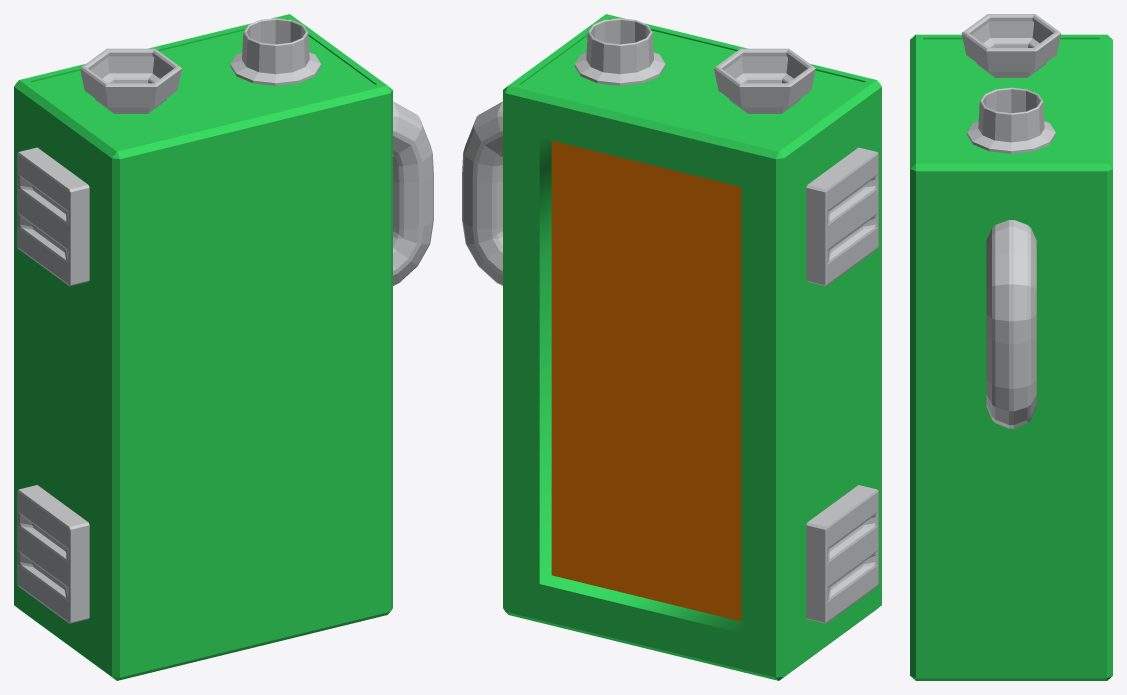
Rendered from backpack.fbx.
3 views of the same model, side by side, from view 1: azimuth 30°, elevation 25°; view 2: azimuth 150°, elevation 25°; view 3: azimuth 270°, elevation 25° (orthographic). The views are drawn at different scales.
Parts seen in each view (by area): view 1: Battery9V1, Cube, Cube.001, Cylinder; view 2: Battery9V1, Cube, Cube.001, Cylinder; view 3: Battery9V1, Cylinder.
Boxes of the visible parts, x1,y1,x2,y2 form: Battery9V1: (14, 14, 392, 680); Cube: (17, 147, 89, 286); Cube.001: (17, 485, 89, 623); Cylinder: (393, 101, 433, 285); Battery9V1: (503, 14, 881, 680); Cube: (806, 147, 878, 286); Cube.001: (806, 485, 878, 623); Cylinder: (462, 101, 502, 285); Battery9V1: (910, 14, 1112, 680); Cylinder: (986, 220, 1036, 428).
Size of the model in its own units: 77.76 by 108 by 36.1.
